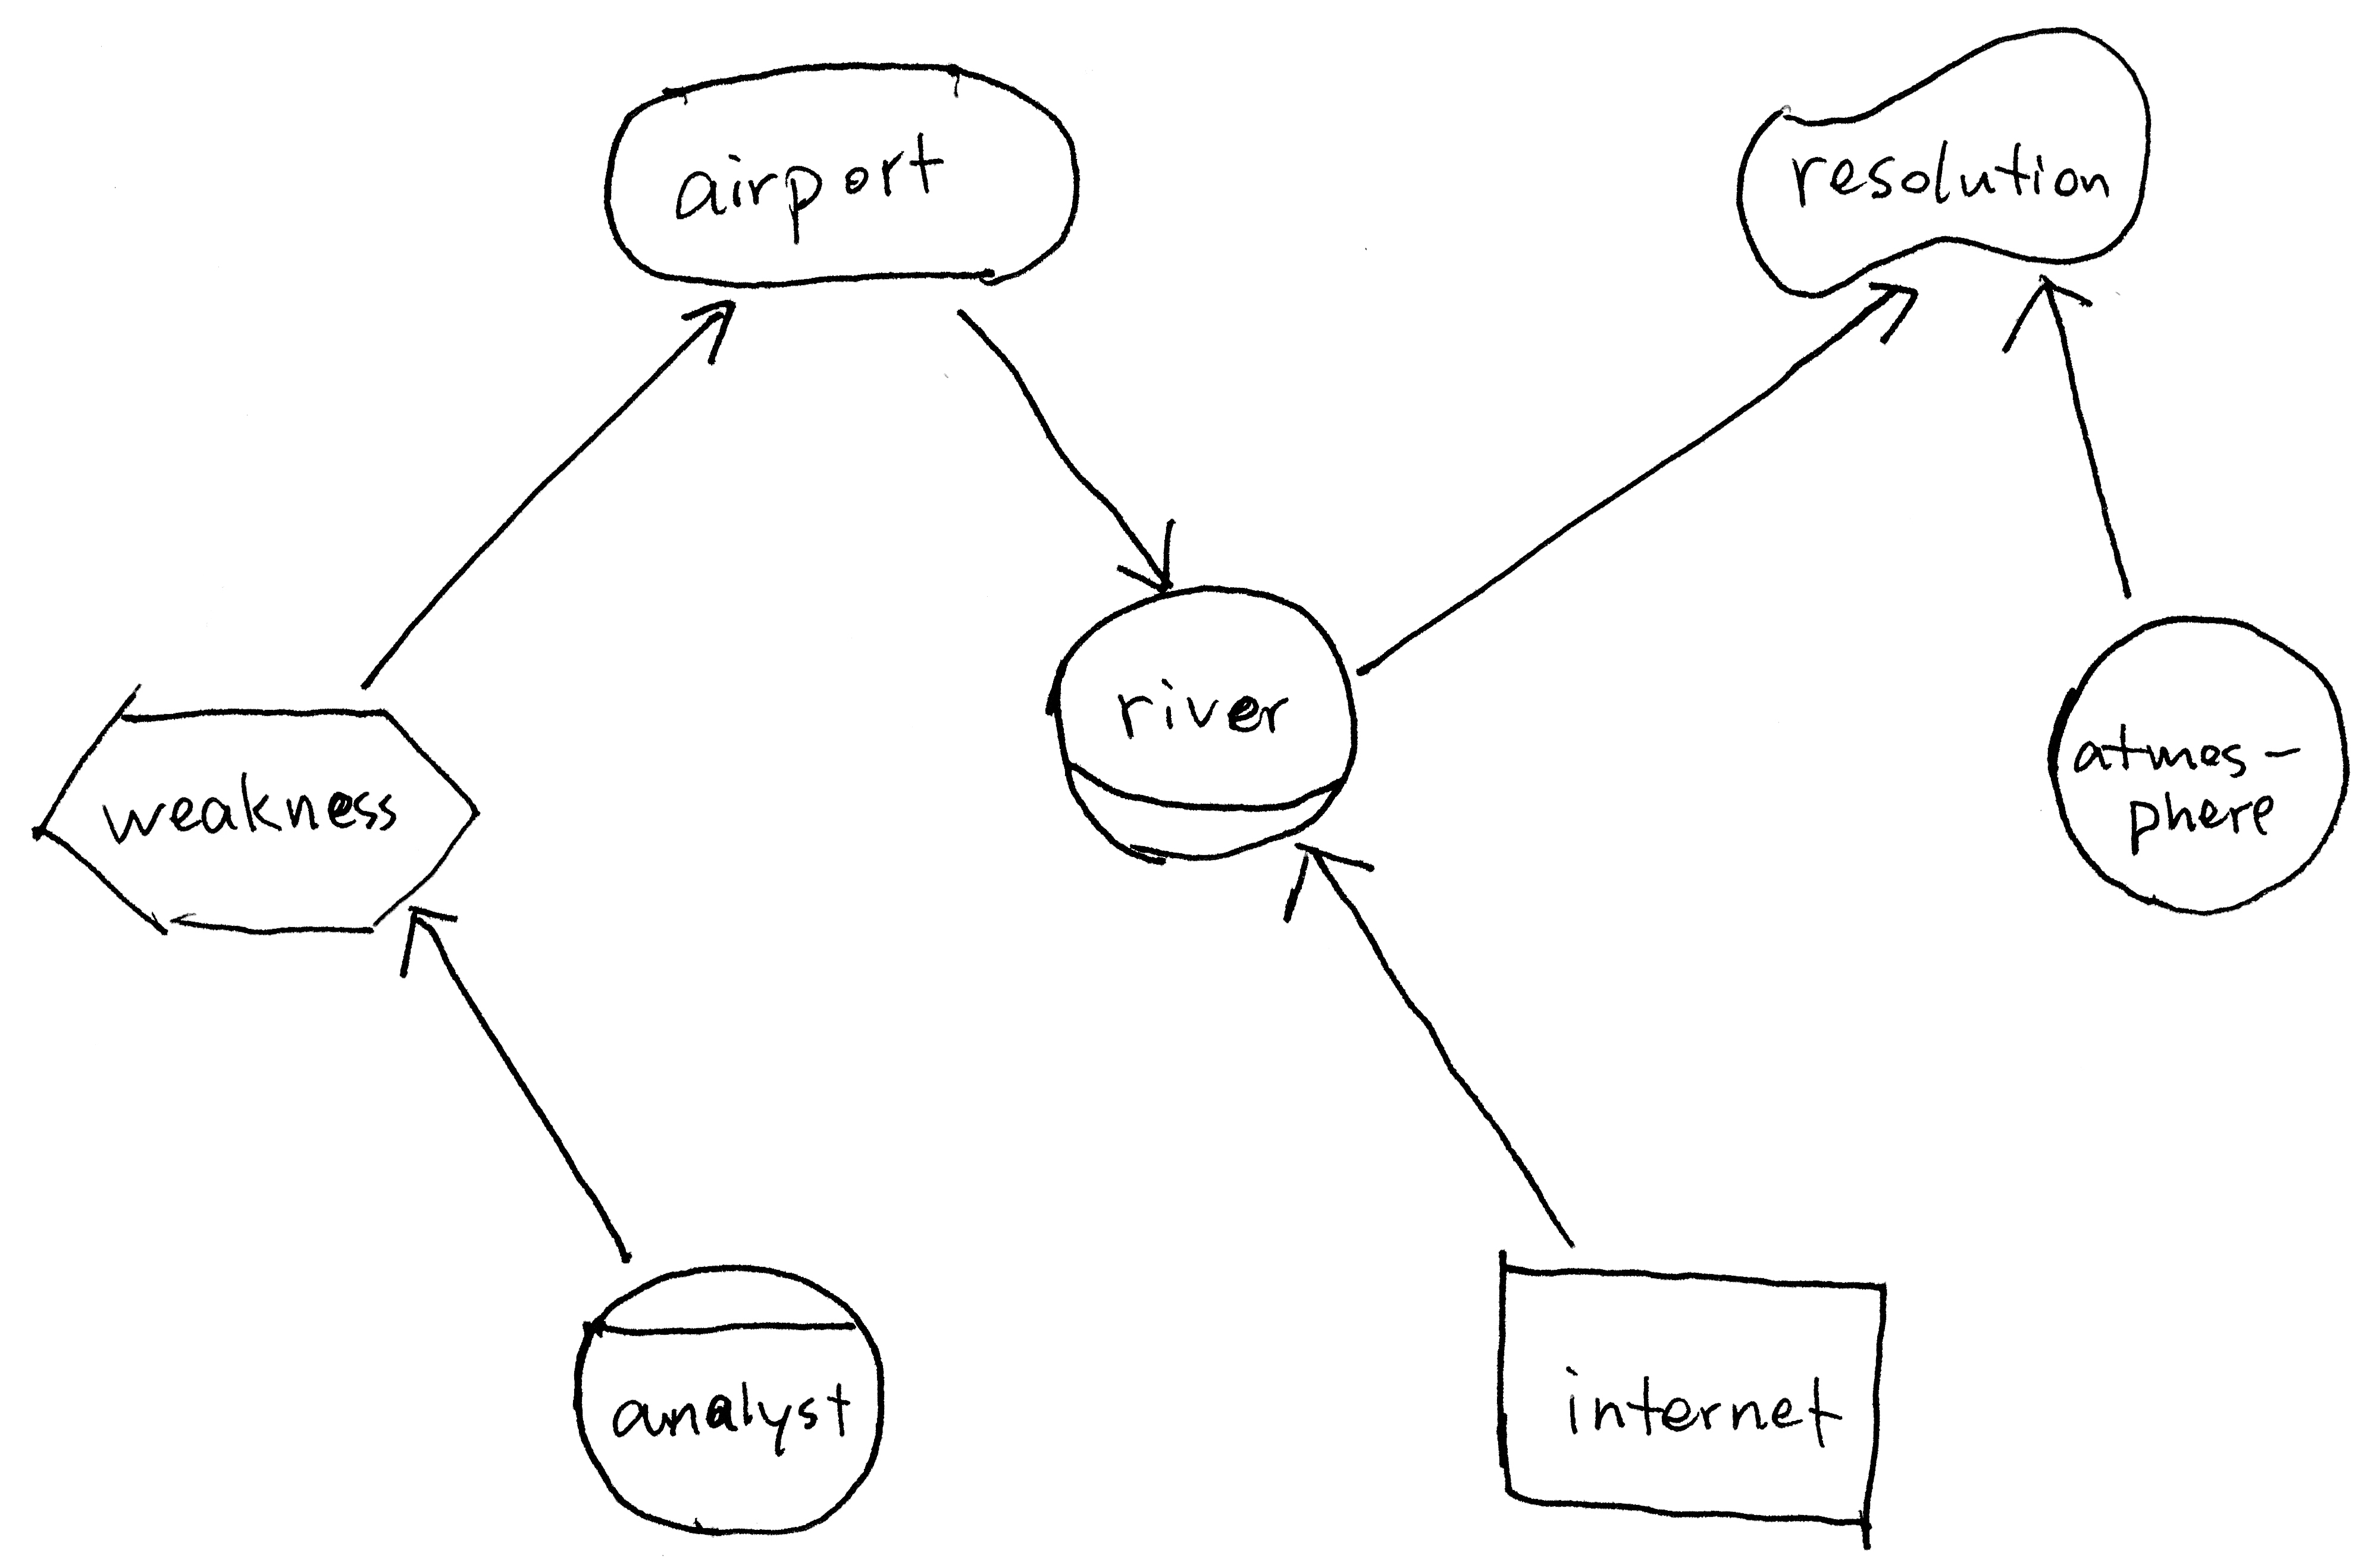actor: (2020, 598, 2368, 938)
agent: (546, 1246, 903, 1549)
arrow: (1270, 823, 1391, 935), (1095, 508, 1214, 609), (1997, 266, 2105, 364), (1844, 247, 1935, 359), (385, 893, 478, 985), (667, 285, 744, 376)
goal: (576, 35, 1111, 303)
quality: (1718, 9, 2173, 308)
resource: (1468, 1229, 1914, 1556)
role: (1017, 572, 1381, 879)
task: (7, 676, 497, 955)
